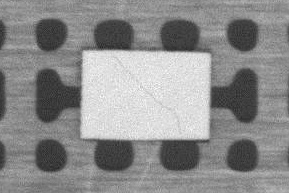DIE_CRACK: (112, 58, 180, 133)
